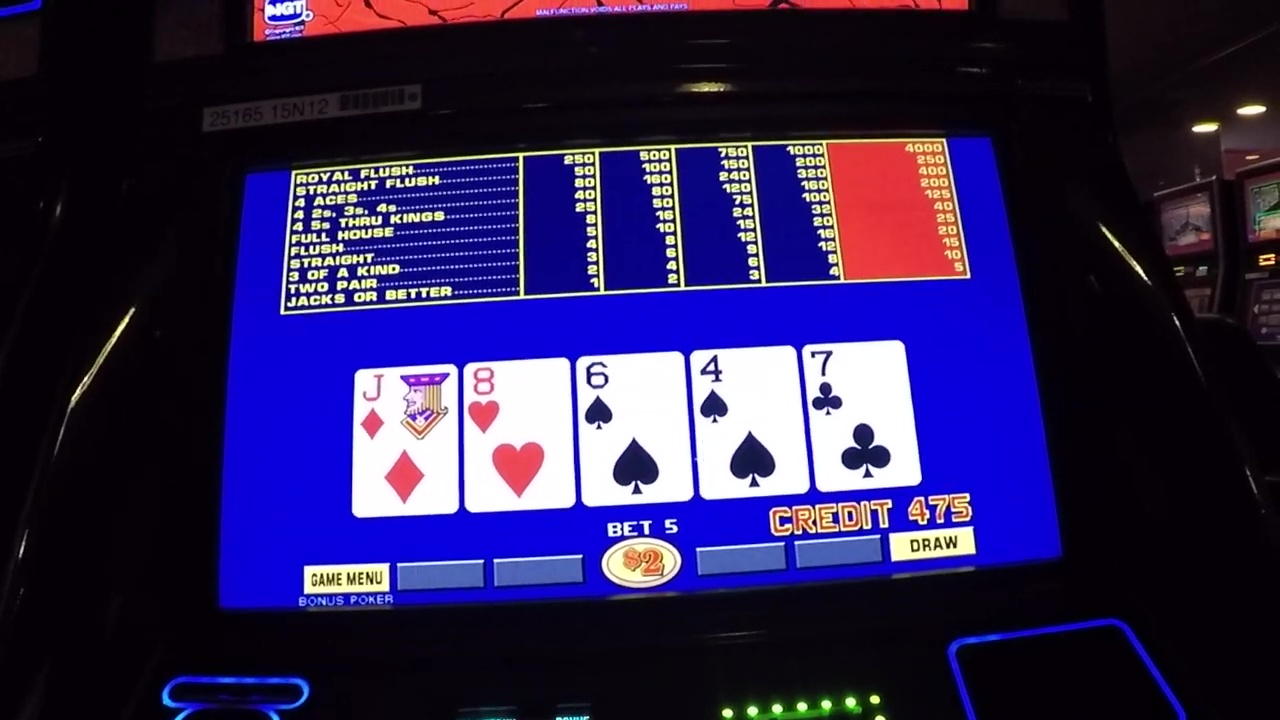C7: (807, 349, 905, 415)
DJ: (357, 372, 455, 441)
H8: (467, 362, 566, 433)
S4: (694, 354, 795, 423)
S6: (581, 359, 683, 432)
